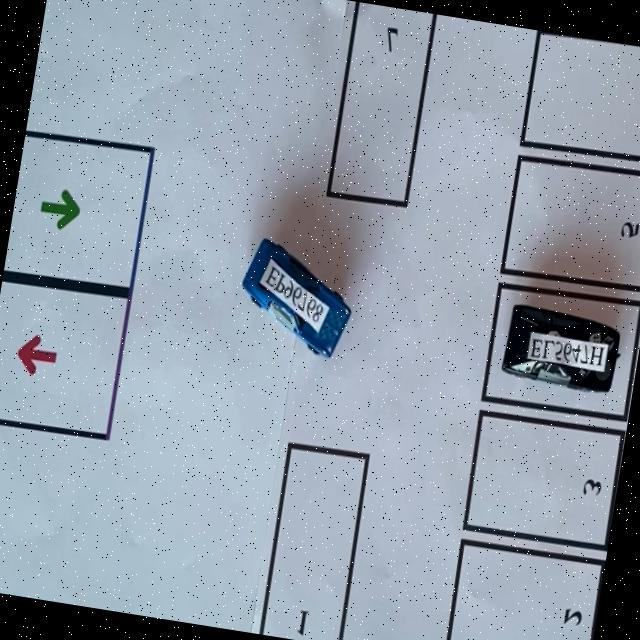car: (230, 232, 363, 368), (497, 300, 629, 398)
